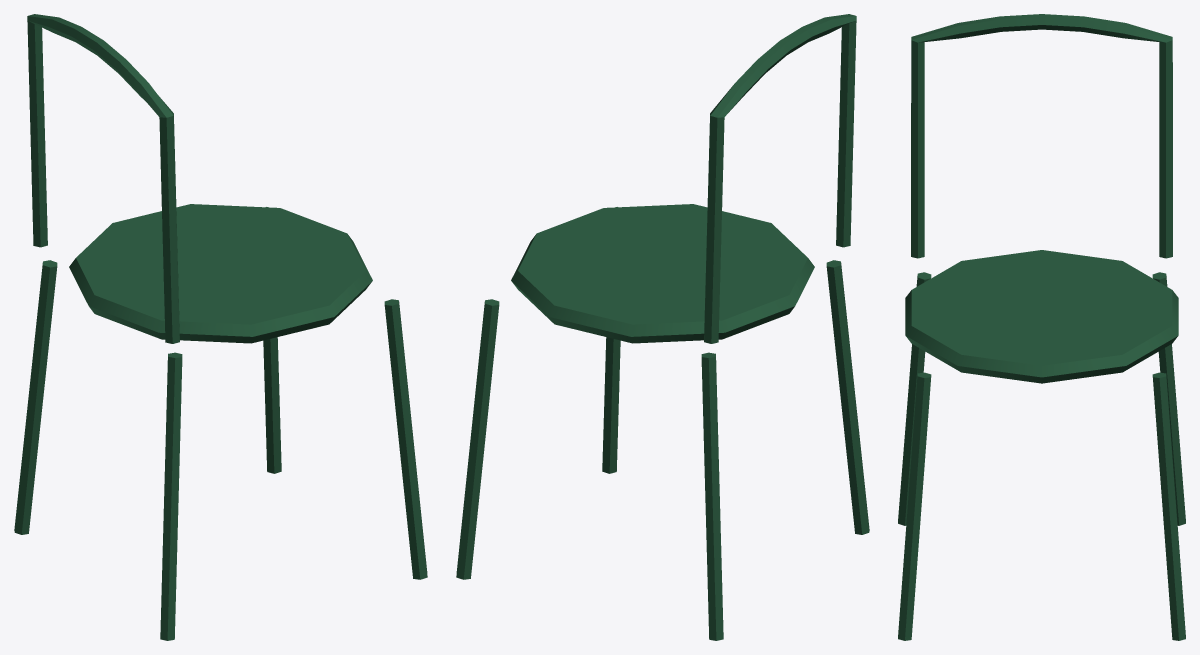
File: SM_Prop_cafe_chair_2_LOD1.glb
The picture shows the model from 3 angles, left to right: view 1: azimuth 30°, elevation 25°; view 2: azimuth 150°, elevation 25°; view 3: azimuth 270°, elevation 25°; orthographic projection. The views are drawn at different scales.
Parts seen in each view (by area): view 1: SM_Prop_cafe_chair_2_LOD1; view 2: SM_Prop_cafe_chair_2_LOD1; view 3: SM_Prop_cafe_chair_2_LOD1.
Boxes of the visible parts, x1,y1,x2,y2 form: SM_Prop_cafe_chair_2_LOD1: (14,14,427,640); SM_Prop_cafe_chair_2_LOD1: (456,14,869,640); SM_Prop_cafe_chair_2_LOD1: (898,14,1185,640).
Bounding box in the file's own units: 0.4439 × 0.8617 × 0.4408.
